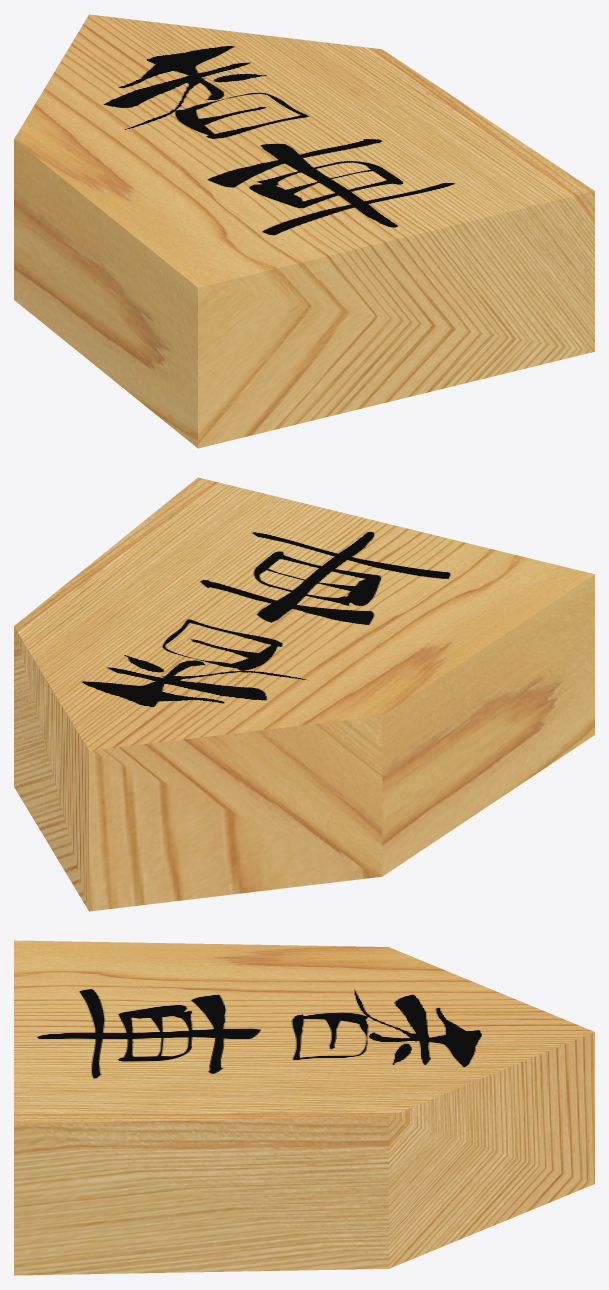
Rendered from koma_kyosha.gltf.
3 views of the same model, one above another, from view 1: azimuth 30°, elevation 25°; view 2: azimuth 150°, elevation 25°; view 3: azimuth 270°, elevation 25° (orthographic). The views are drawn at different scales.
Parts seen in each view (by area): view 1: Cylinder; view 2: Cylinder; view 3: Cylinder.
Part boxes in pixels (<box>): Cylinder: <box>14,14,594,448</box>; Cylinder: <box>14,477,594,911</box>; Cylinder: <box>14,940,594,1275</box>.
Size of the model in its own units: 1.29 by 0.5 by 1.73.
Materials: 1 (1 with a texture image).
